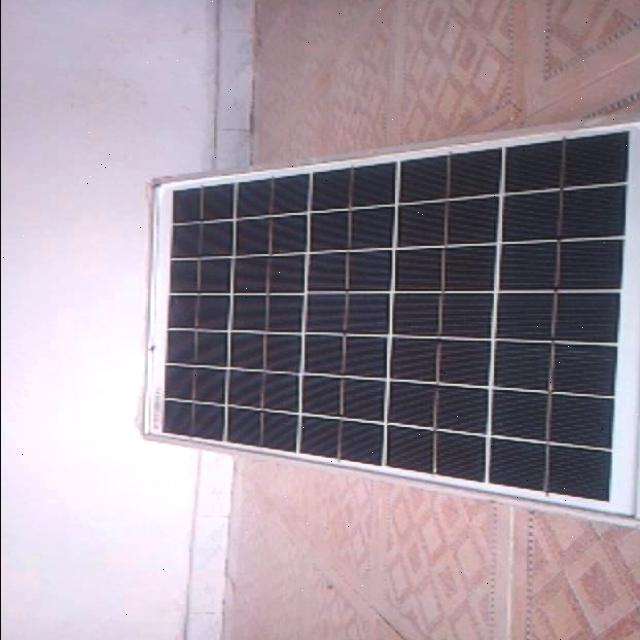Normal Solar Panel: (138, 119, 640, 529)
